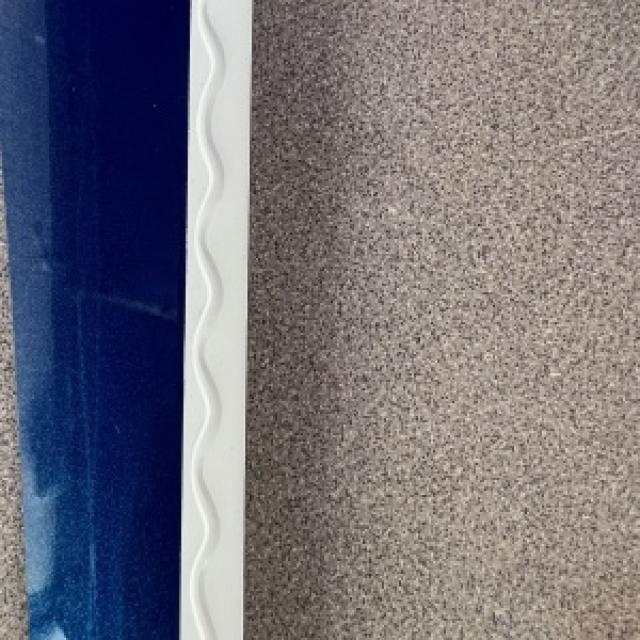healthy: (243, 0, 638, 638), (0, 0, 247, 638)
